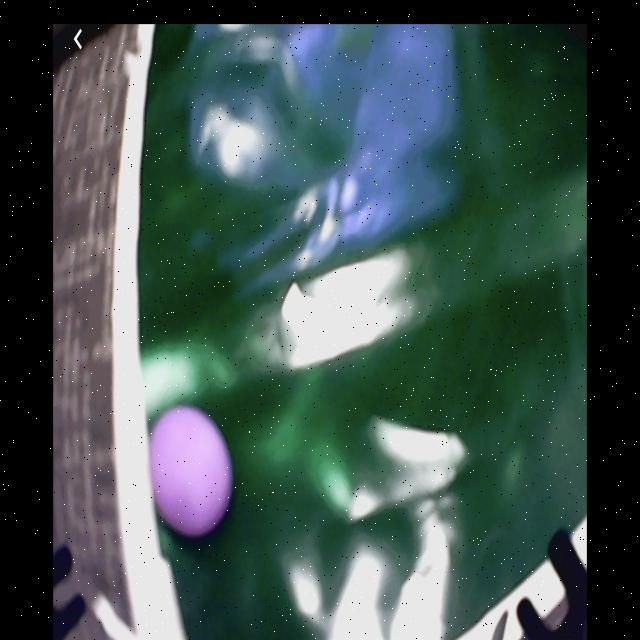ball: (148, 406, 236, 535)
